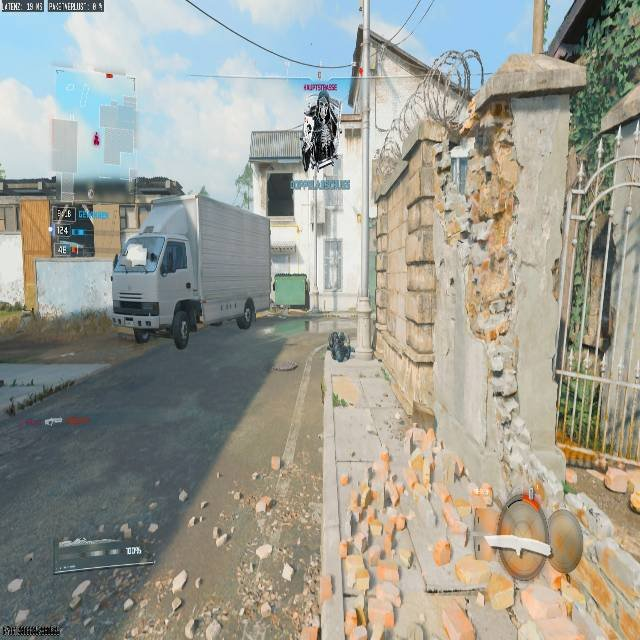player: (301, 94, 340, 172)
